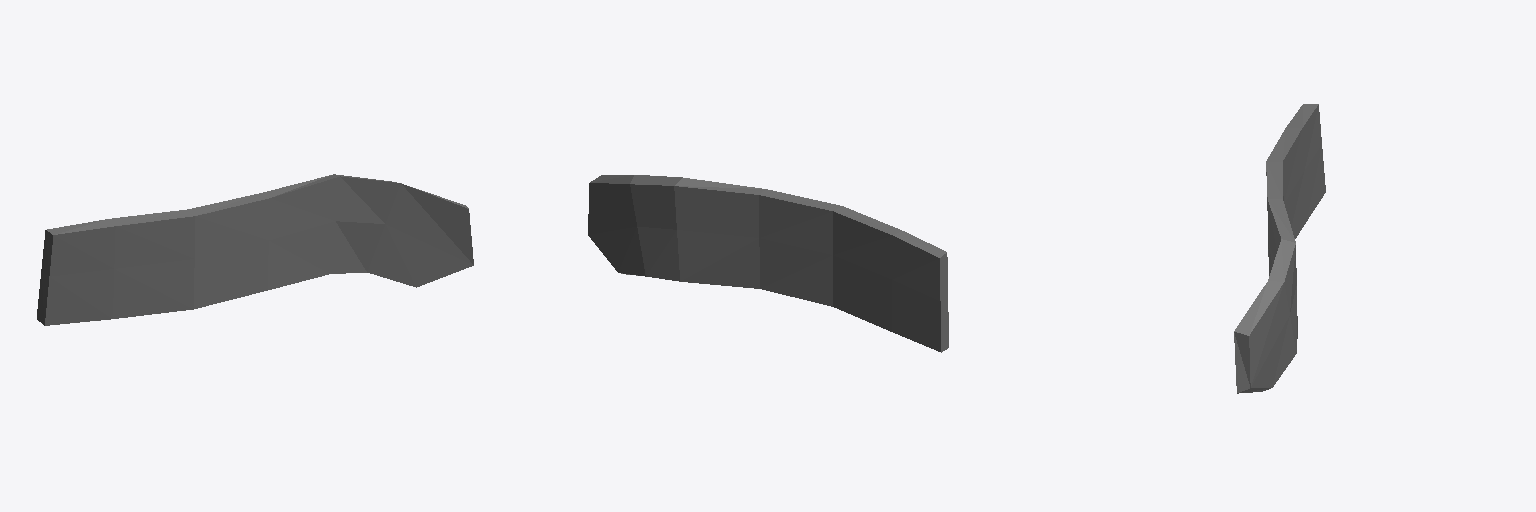
Rendered from LowPoly_Morte_CintoFivela.obj.
3 views of the same model, side by side, from view 1: azimuth 30°, elevation 25°; view 2: azimuth 150°, elevation 25°; view 3: azimuth 270°, elevation 25° (orthographic).
Visible parts, largest first — view 1: LowPoly_Morte_CintoFivela; view 2: LowPoly_Morte_CintoFivela; view 3: LowPoly_Morte_CintoFivela.
Boxes of the visible parts, <box> form: LowPoly_Morte_CintoFivela: <box>37,174,473,325</box>; LowPoly_Morte_CintoFivela: <box>588,175,948,352</box>; LowPoly_Morte_CintoFivela: <box>1234,104,1325,393</box>.
Bounding box in the file's own units: 14.37 × 4.33 × 2.92.